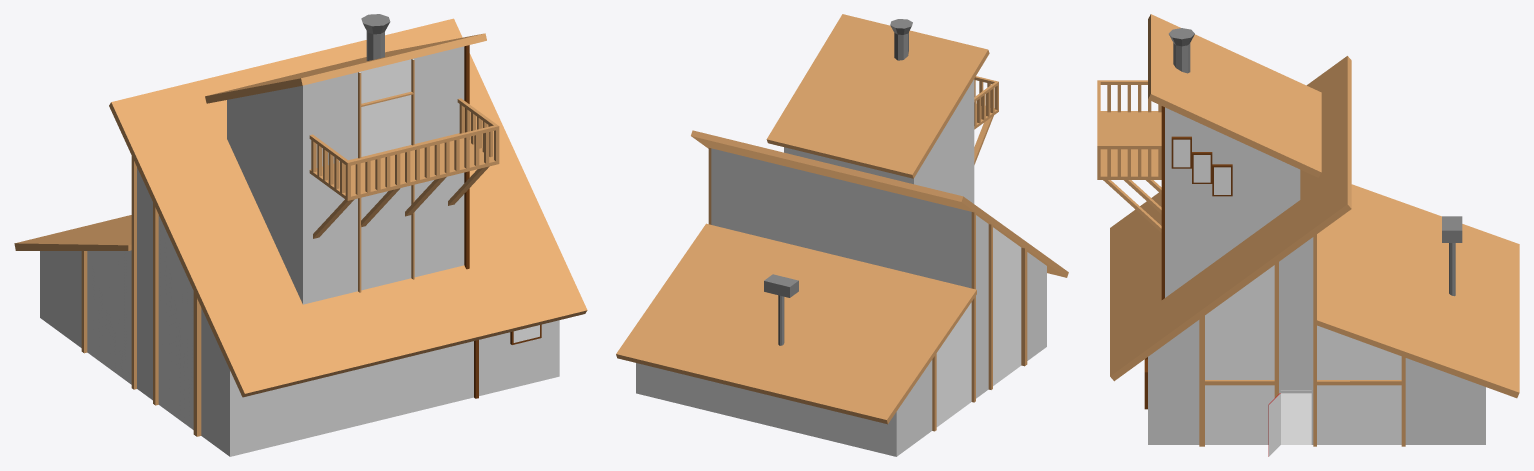
File: house.glb
3 renders of one model, left to right at view 1: azimuth 30°, elevation 25°; view 2: azimuth 150°, elevation 25°; view 3: azimuth 270°, elevation 25°, orthographic. The views are drawn at different scales.
Parts seen in each view (by area): view 1: Cube.002, Cube.004, Cube, Cube.001, Cube.006, Cube.005, Cube.003, Cube.011, Cube.042; view 2: Cube.003, Cube, Cube.005, Cube.001, Cube.002, Cube.004, Cube.046; view 3: Cube.003, Cube, Cube.002, Cube.001, Cube.005, Cube.004, Cube.006, Cube.042, Cube.048, Cube.044, Cube.047, Cube.046 (+1 smaller).
Boxes of the visible parts, bbox=[...] form: Cube.002: bbox=[109, 18, 587, 397]; Cube.004: bbox=[227, 46, 464, 304]; Cube: bbox=[131, 156, 559, 456]; Cube.001: bbox=[40, 14, 390, 384]; Cube.006: bbox=[309, 133, 499, 200]; Cube.005: bbox=[205, 33, 486, 103]; Cube.003: bbox=[14, 215, 131, 250]; Cube.011: bbox=[345, 125, 499, 166]; Cube.042: bbox=[464, 45, 469, 269]; Cube.003: bbox=[616, 223, 976, 424]; Cube: bbox=[708, 148, 1046, 402]; Cube.005: bbox=[766, 14, 989, 178]; Cube.001: bbox=[636, 19, 971, 456]; Cube.002: bbox=[691, 130, 1068, 277]; Cube.004: bbox=[784, 79, 974, 203]; Cube.046: bbox=[764, 274, 798, 297]; Cube.003: bbox=[1317, 184, 1519, 398]; Cube: bbox=[1148, 234, 1316, 456]; Cube.002: bbox=[1110, 56, 1351, 381]; Cube.001: bbox=[1168, 28, 1485, 446]; Cube.005: bbox=[1148, 14, 1321, 177]; Cube.004: bbox=[1165, 107, 1300, 297]; Cube.006: bbox=[1097, 111, 1161, 179]; Cube.042: bbox=[1161, 106, 1164, 299]; Cube.048: bbox=[1212, 164, 1232, 196]; Cube.044: bbox=[1171, 136, 1191, 168]; Cube.047: bbox=[1192, 152, 1212, 183]; Cube.046: bbox=[1442, 216, 1462, 242].
Size of what is drawn, in the model's own units: 11.03 by 11.1 by 12.49.
